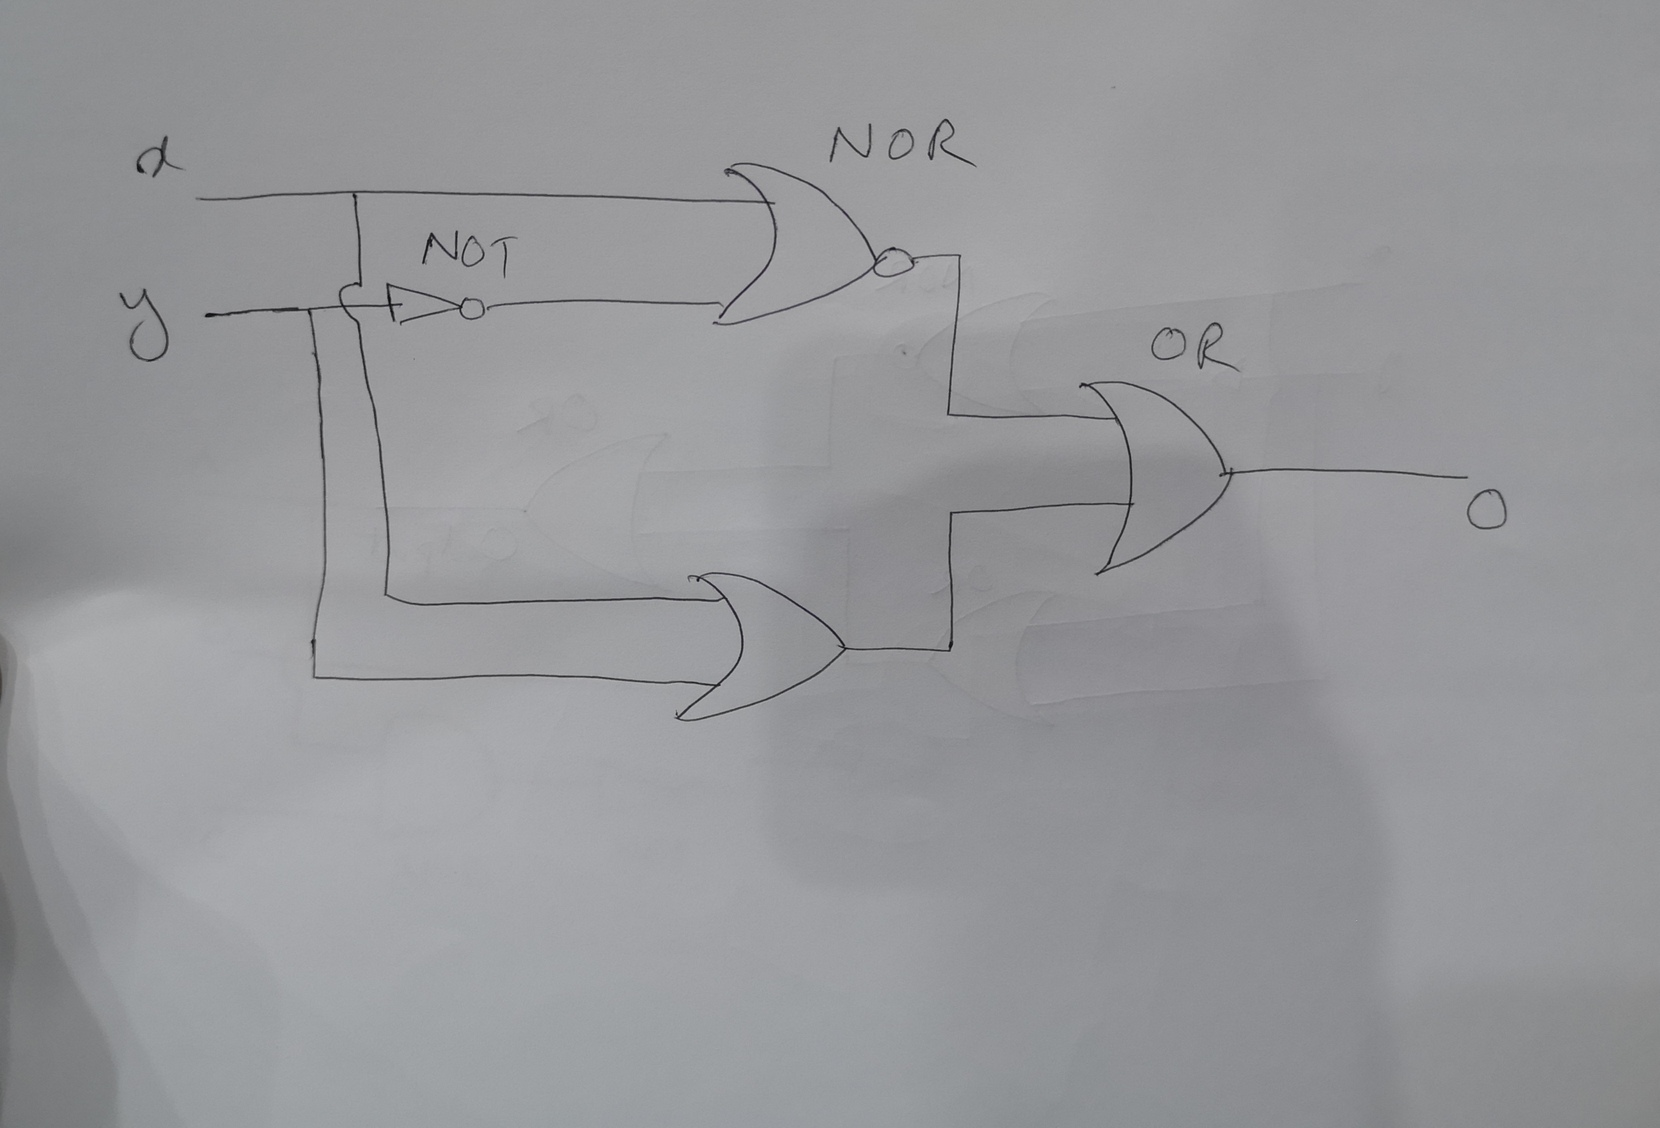crossover: (334, 278, 370, 329)
junction: (938, 633, 965, 661), (376, 582, 396, 606), (948, 245, 972, 264), (294, 300, 316, 319), (305, 666, 323, 686), (940, 405, 959, 424), (941, 504, 962, 521), (345, 185, 365, 201)
nor: (704, 159, 923, 331)
not: (383, 279, 496, 329)
or: (1077, 375, 1241, 580), (670, 568, 850, 734)
terminal: (198, 302, 225, 326), (1454, 468, 1474, 485), (189, 193, 209, 208)
text: (824, 115, 975, 174), (1145, 317, 1243, 375), (414, 227, 520, 279), (116, 285, 177, 368), (131, 128, 191, 183), (1462, 483, 1513, 534)
